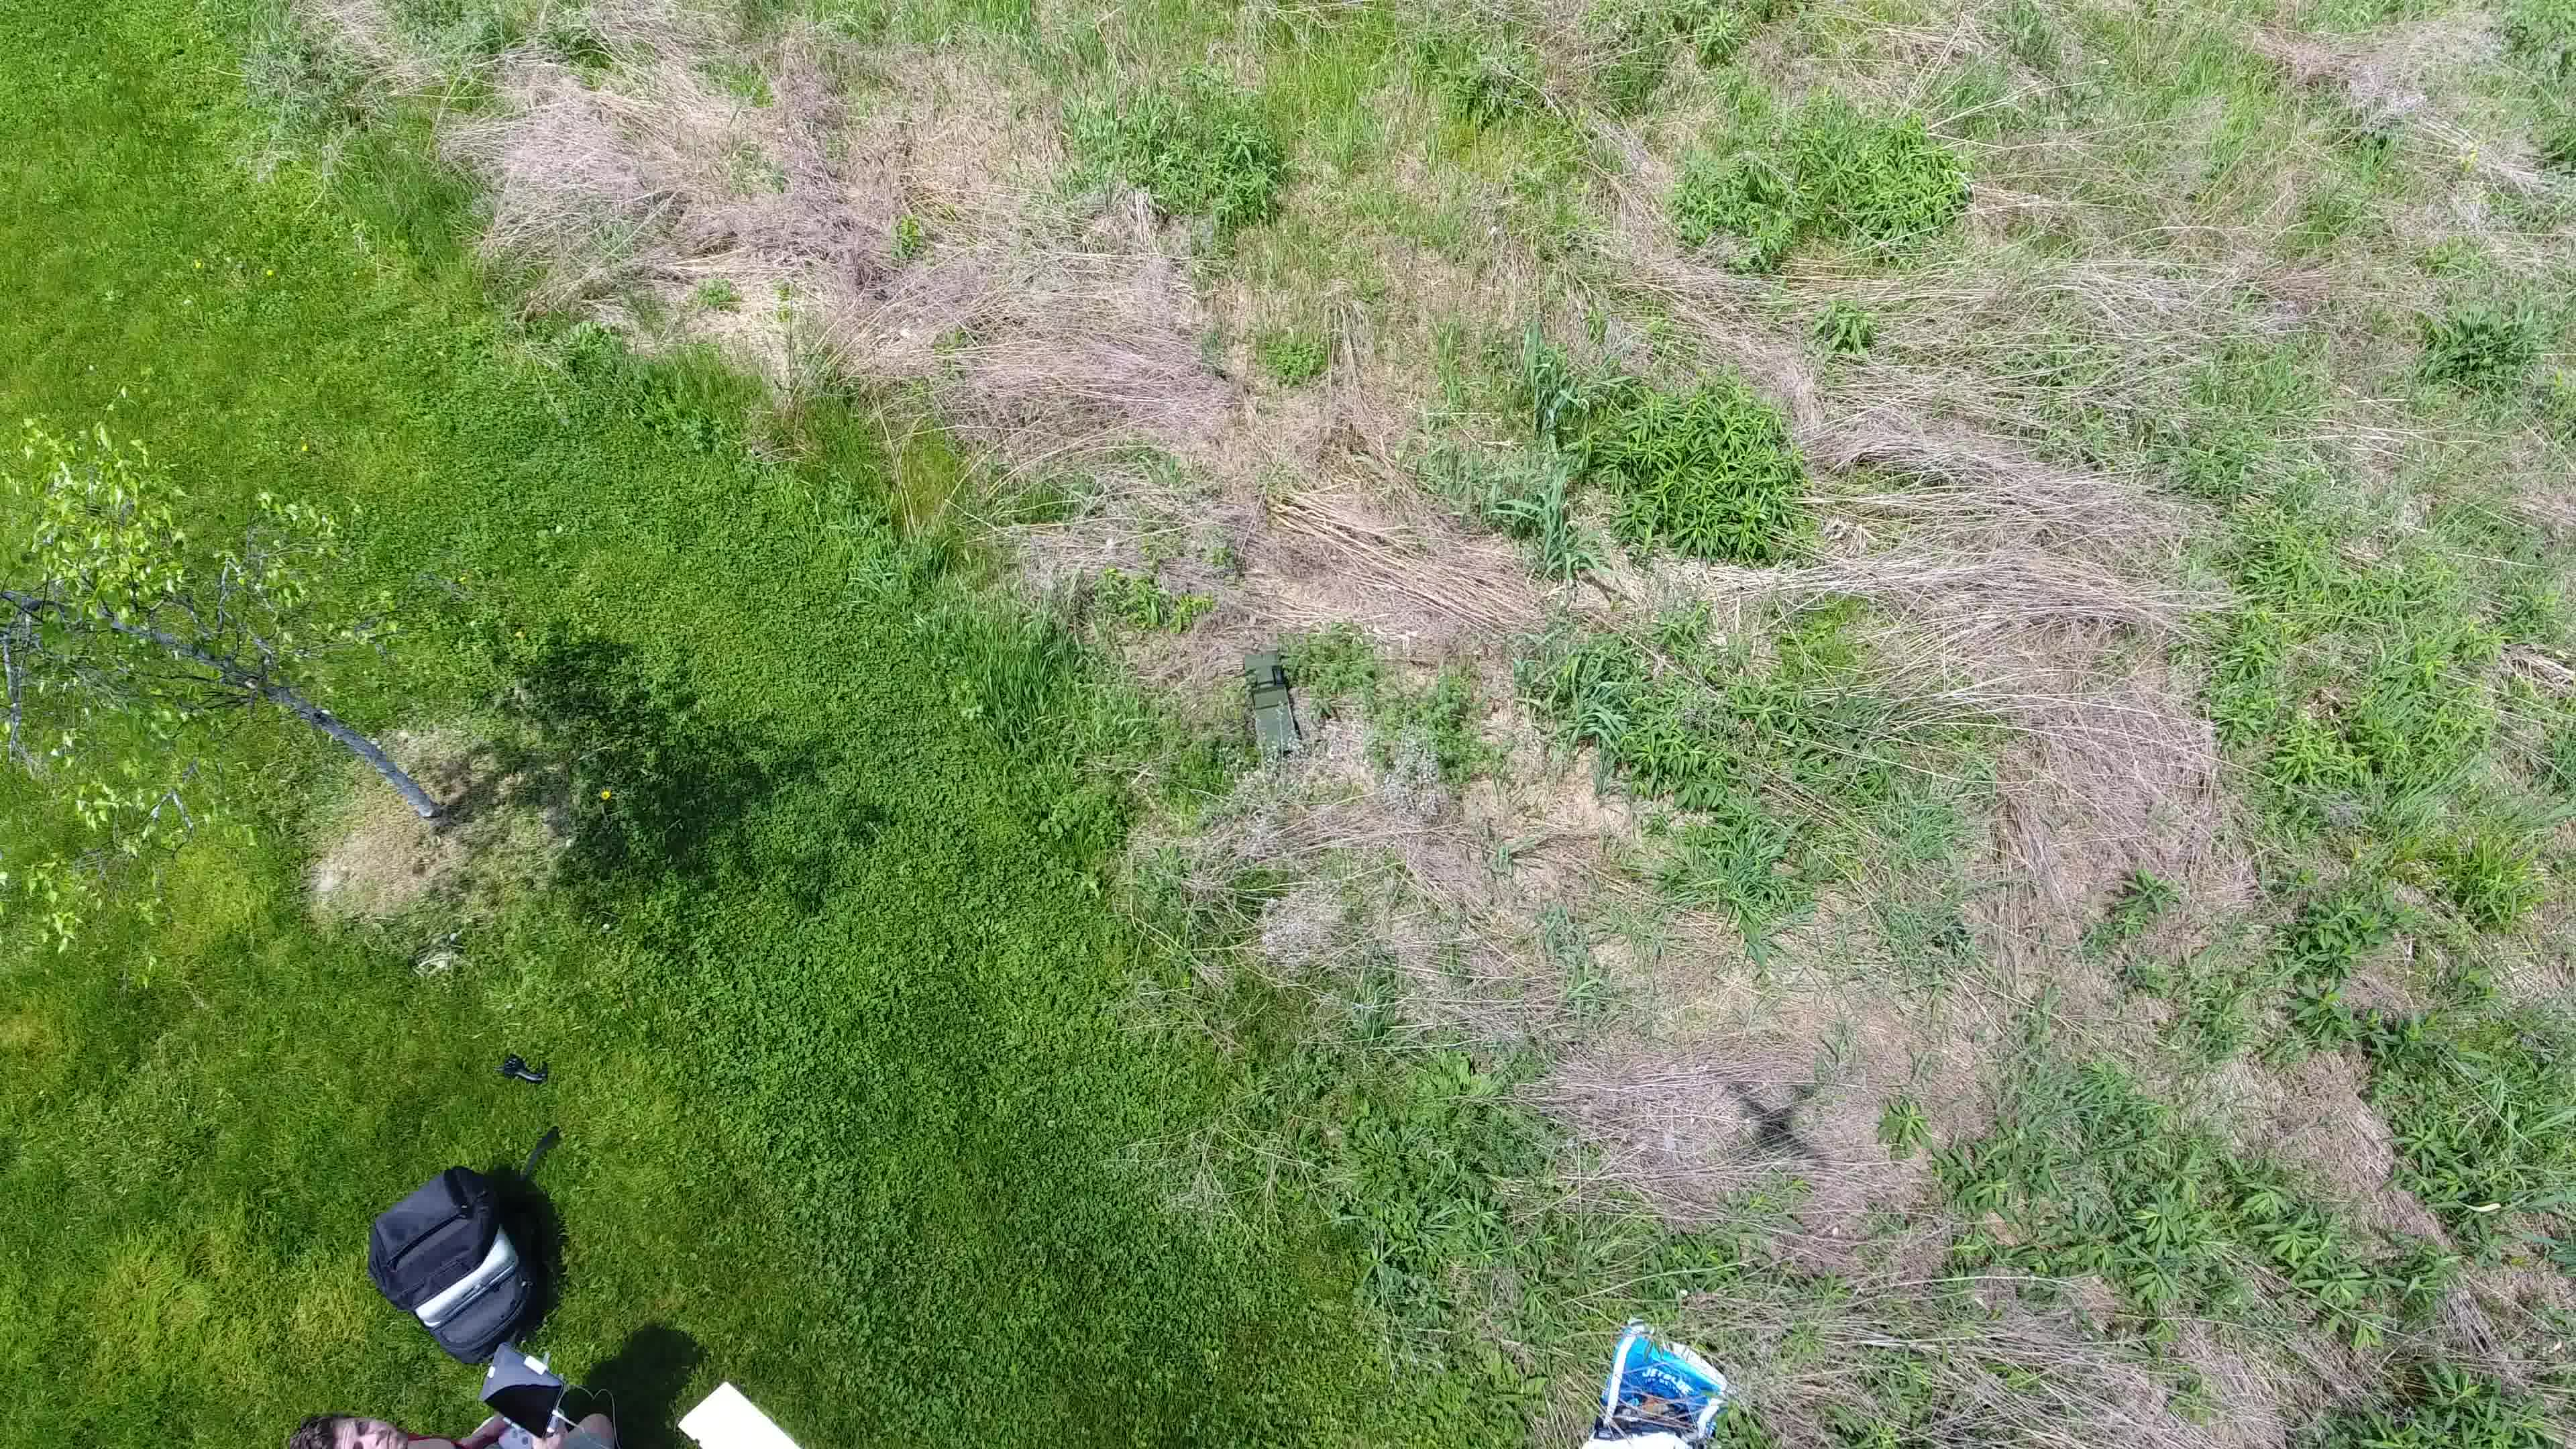transporter9: (1238, 651, 1311, 763)
